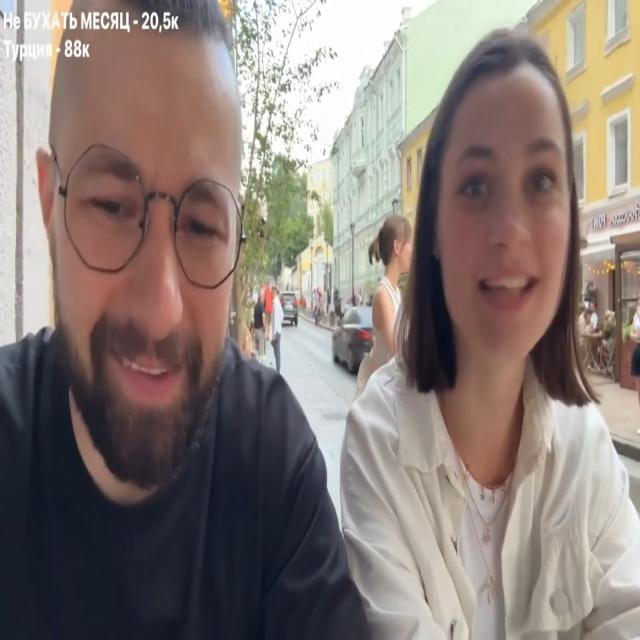Person: (0, 25, 350, 640), (330, 20, 640, 640), (356, 213, 413, 400), (252, 282, 283, 370)
